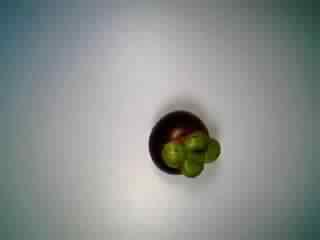mangosteen: (140, 106, 223, 181)
